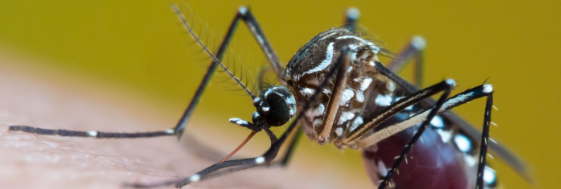dengue_mosquito: (75, 1, 500, 188)
